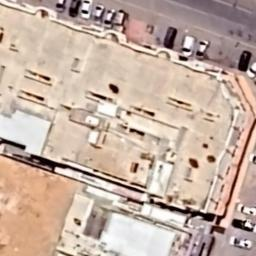SUV: (81, 0, 93, 20)
others: (69, 0, 80, 18), (55, 0, 66, 12)
sedan: (228, 235, 254, 251), (164, 26, 178, 49), (238, 49, 252, 72), (236, 203, 256, 216), (196, 40, 210, 58), (94, 4, 104, 22), (246, 62, 256, 78), (249, 154, 256, 162)
truck: (229, 218, 256, 233)
van: (182, 35, 196, 58), (114, 12, 130, 32), (104, 8, 114, 30)
